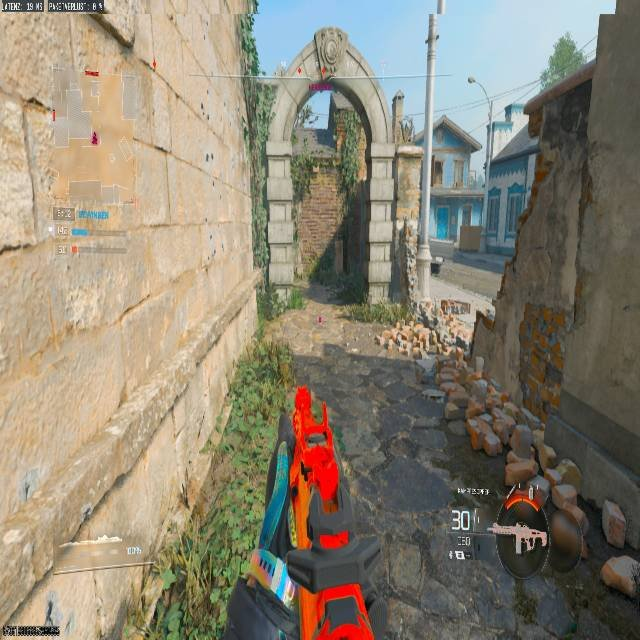player: (497, 434, 640, 639)
